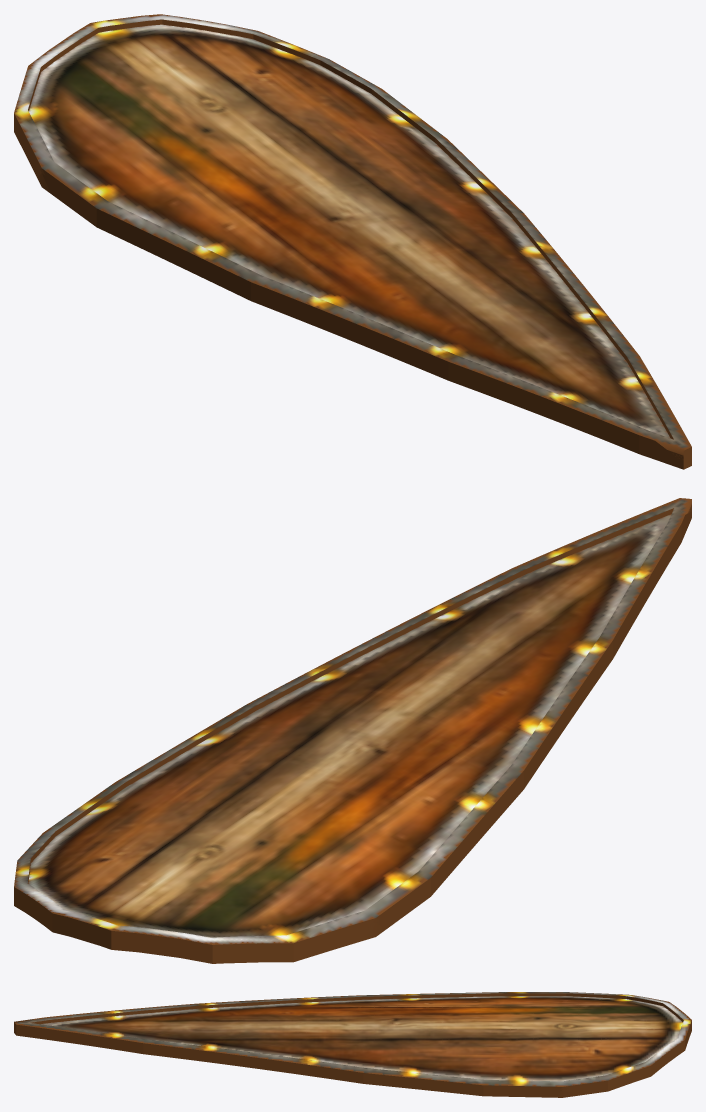
Rendered from item_mm9_10144.glb.
3 renders of one model, top to bottom at view 1: azimuth 30°, elevation 25°; view 2: azimuth 150°, elevation 25°; view 3: azimuth 270°, elevation 25°, orthographic. The views are drawn at different scales.
Parts seen in each view (by area): view 1: d10144; view 2: d10144; view 3: d10144.
Part boxes in pixels (box(x1,y1,x2,y2)): d10144: box(14, 14, 691, 469); d10144: box(14, 498, 691, 963); d10144: box(14, 992, 691, 1097).
Size of the model in its own units: 44.7 by 5.99 by 135.
1 material, 1 textured.
